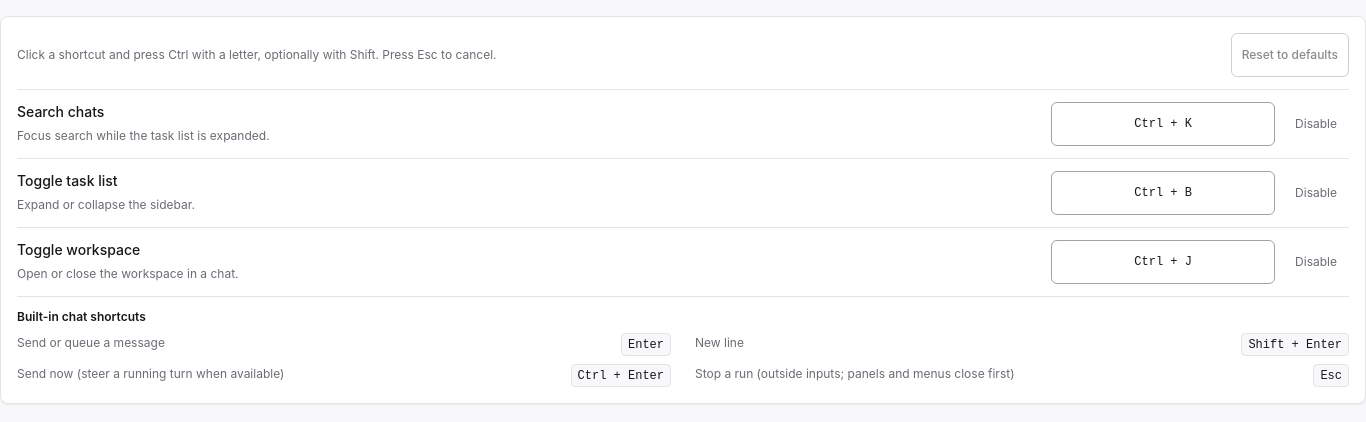
Test: keyboard shortcut settings › ignores IME and repeated keys, and lets Tab leave the recorder
Click the button with aria-label "Change shortcut for Toggle task list" at (1163, 193), box [1051,171,1275,215]
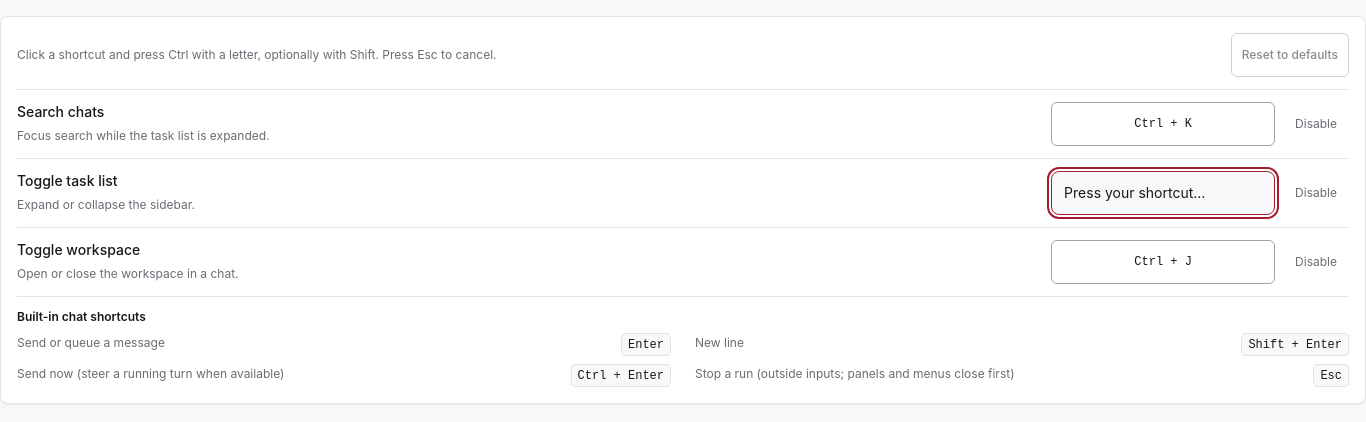
Press g in the field named "New shortcut for Toggle task list", box [1051,171,1275,215]
Press g in the field named "New shortcut for Toggle task list", box [1051,171,1275,215]
Press g in the field named "New shortcut for Toggle task list", box [1051,171,1275,215]
Press Tab in the field named "New shortcut for Toggle task list", box [1051,171,1275,215]
Leave the field named "New shortcut for Toggle task list", box [1051,171,1275,215]
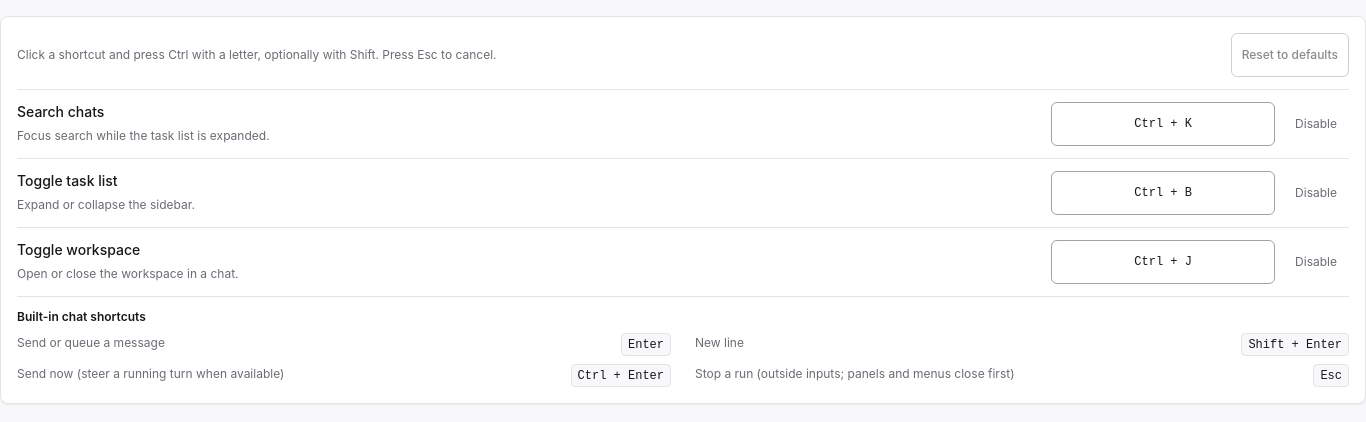
Expected: the field is gone
